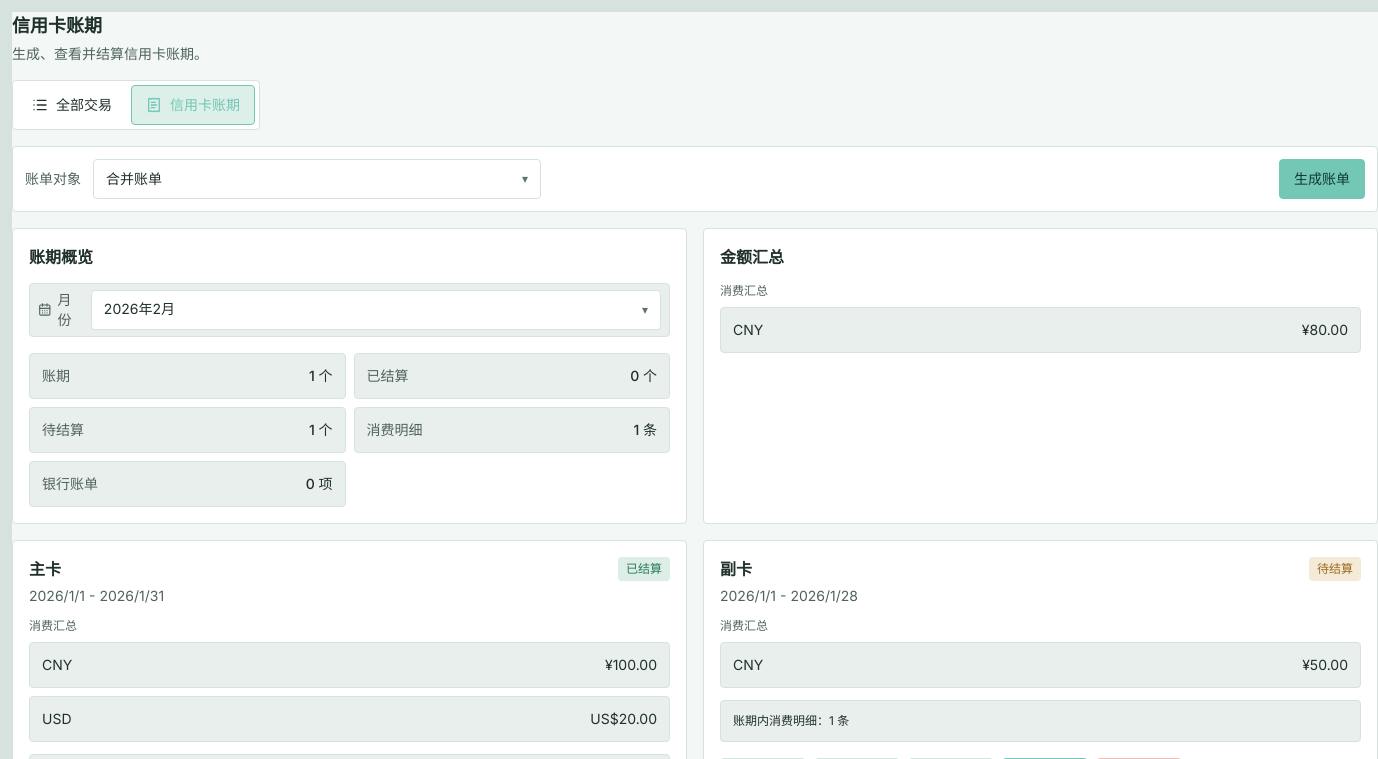
CreditStatementsView › shows latest-month combined statement stats and updates when month changes
Expected: the text "2026年2月" is shown, [104,300,175,319]
Expected: the text "1 条" is shown, [634,420,657,440]
What coordinates should you click on to do the following:
click the button named "账期月份"
I would click on:
 (139, 309)
Its box is [91,290,661,330].
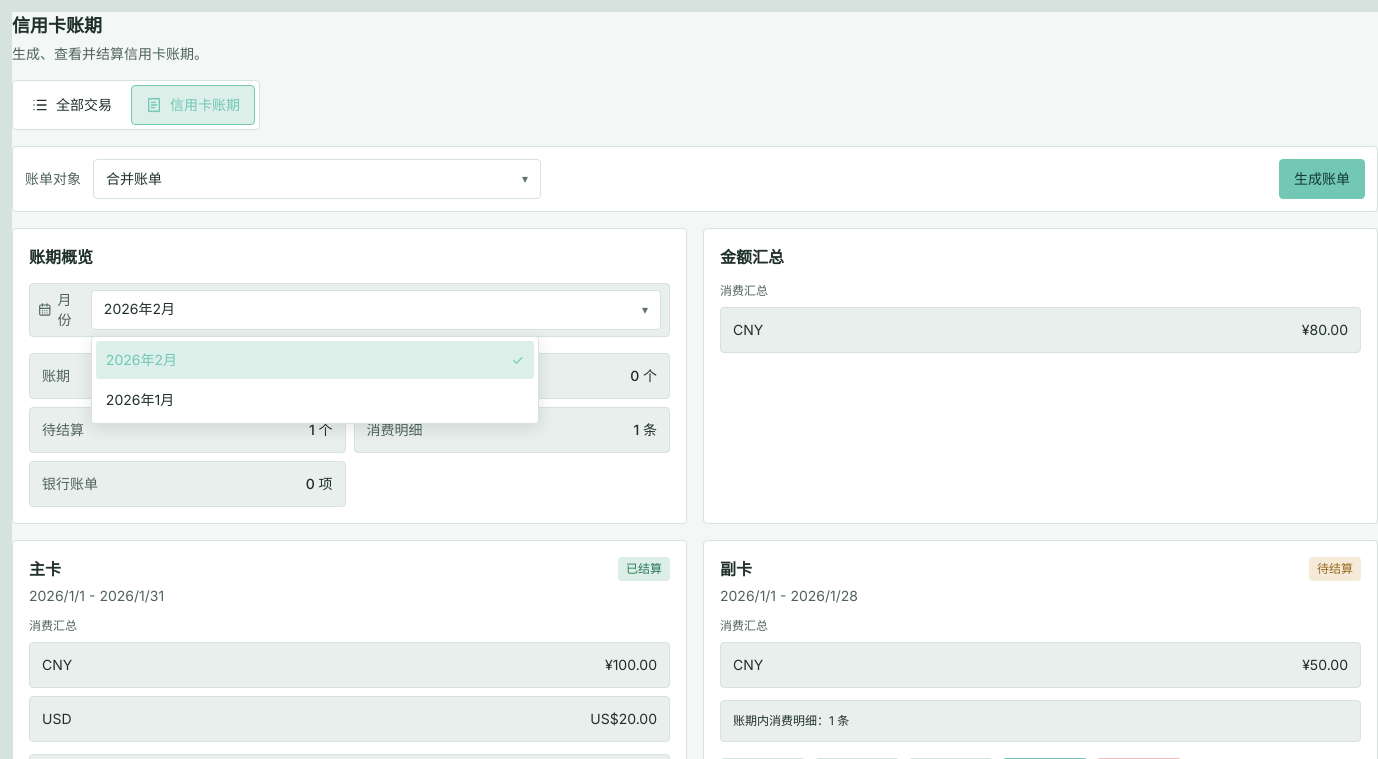
What coordinates should you click on to do the following:
click the option "2026年1月"
I would click on:
 (140, 399)
Its box is [96,381,534,419].
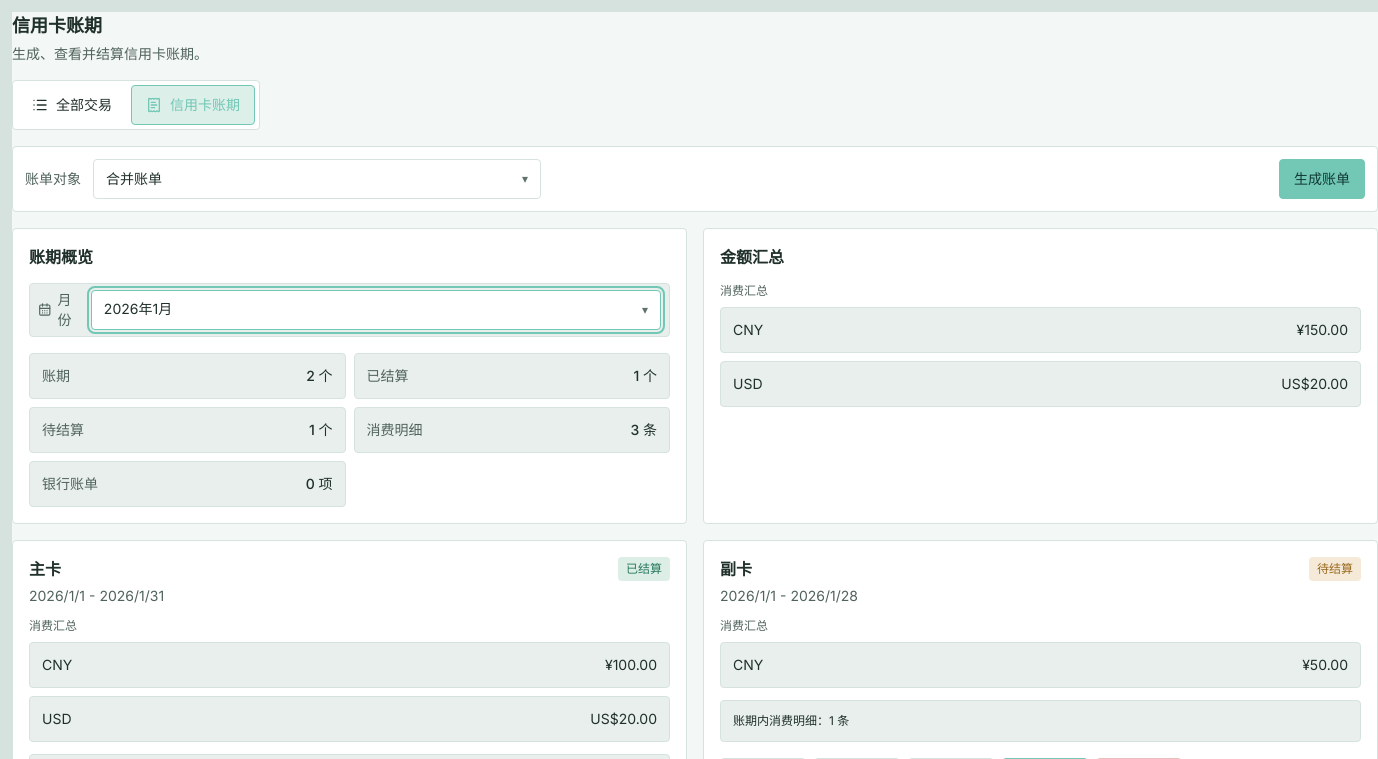
Expected: the text "2026年1月" is shown, [104,300,172,319]
Expected: the text "3 条" is shown, [630,420,657,440]
Expected: the text "¥150.00" is shown, [1296,320,1348,340]
